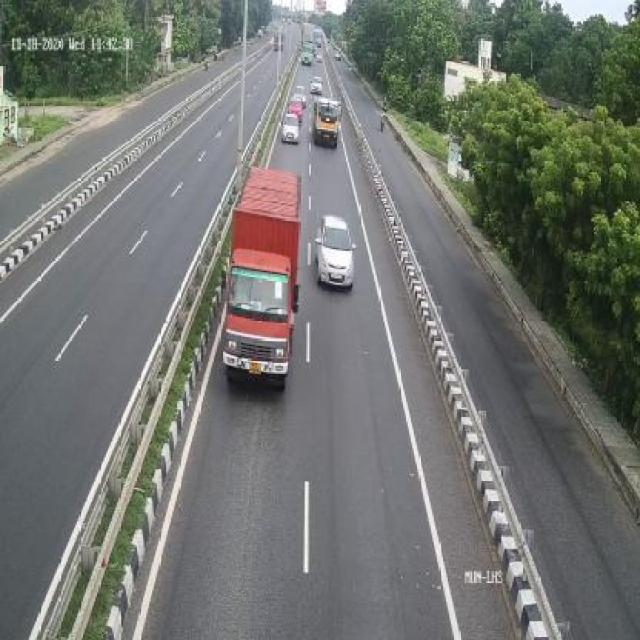car: (318, 209, 357, 294), (283, 95, 303, 148)
